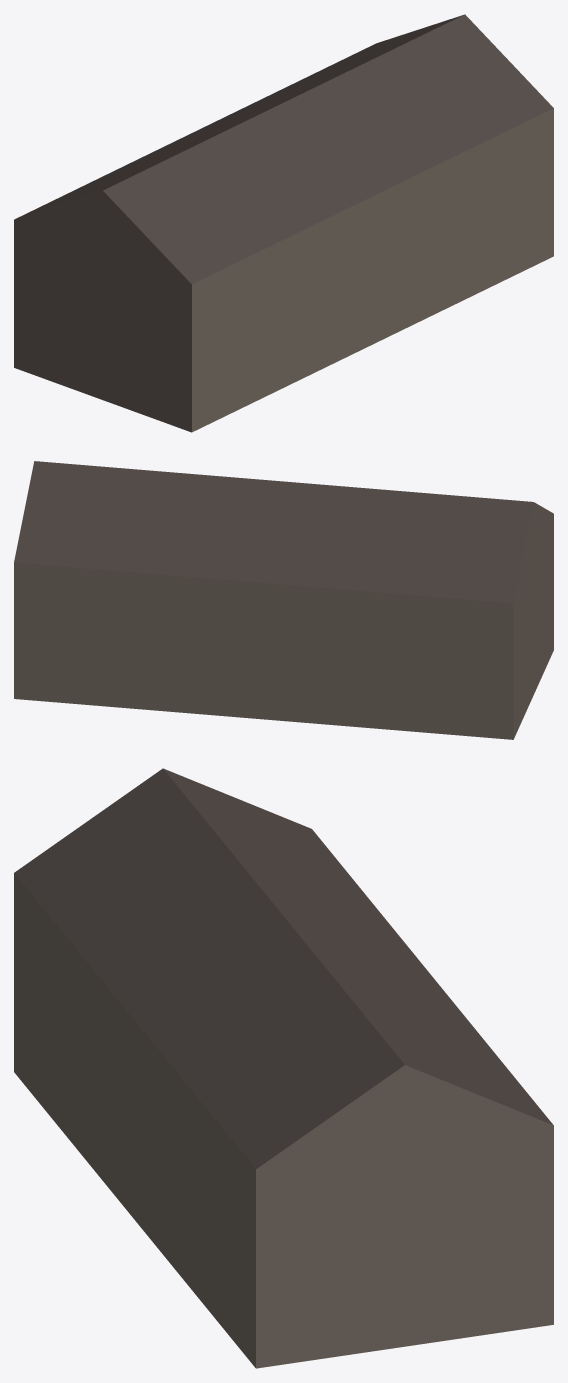
3 renders of one model, top to bottom at view 1: azimuth 30°, elevation 25°; view 2: azimuth 150°, elevation 25°; view 3: azimuth 270°, elevation 25°, orthographic. The views are drawn at different scales.
Parts seen in each view (by area): view 1: HP-w859078921; view 2: HP-w859078921; view 3: HP-w859078921.
Part boxes in pixels (x1=…): HP-w859078921: x1=14, y1=14, x2=553, y2=432; HP-w859078921: x1=14, y1=461, x2=553, y2=739; HP-w859078921: x1=14, y1=768, x2=553, y2=1368.
Size of the model in its own units: 33.01 by 12.73 by 22.12.
